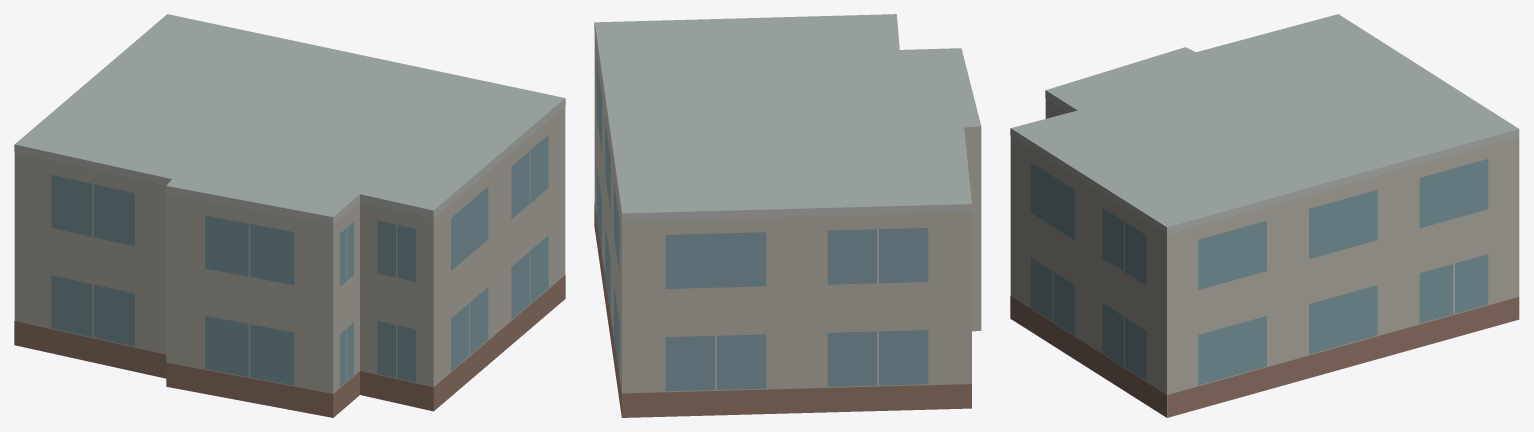
File: survey-upis-32625321.glb
3 renders of one model, left to right at view 1: azimuth 30°, elevation 25°; view 2: azimuth 150°, elevation 25°; view 3: azimuth 270°, elevation 25°, orthographic. The views are drawn at different scales.
Parts seen in each view (by area): view 1: survey-upis-32625321.tmp; view 2: survey-upis-32625321.tmp; view 3: survey-upis-32625321.tmp.
Boxes of the visible parts, bbox=[...] form: survey-upis-32625321.tmp: bbox=[14, 14, 565, 417]; survey-upis-32625321.tmp: bbox=[594, 14, 981, 417]; survey-upis-32625321.tmp: bbox=[1010, 14, 1519, 417].
Size of the model in its own units: 14.66 by 6.1 by 14.77.
